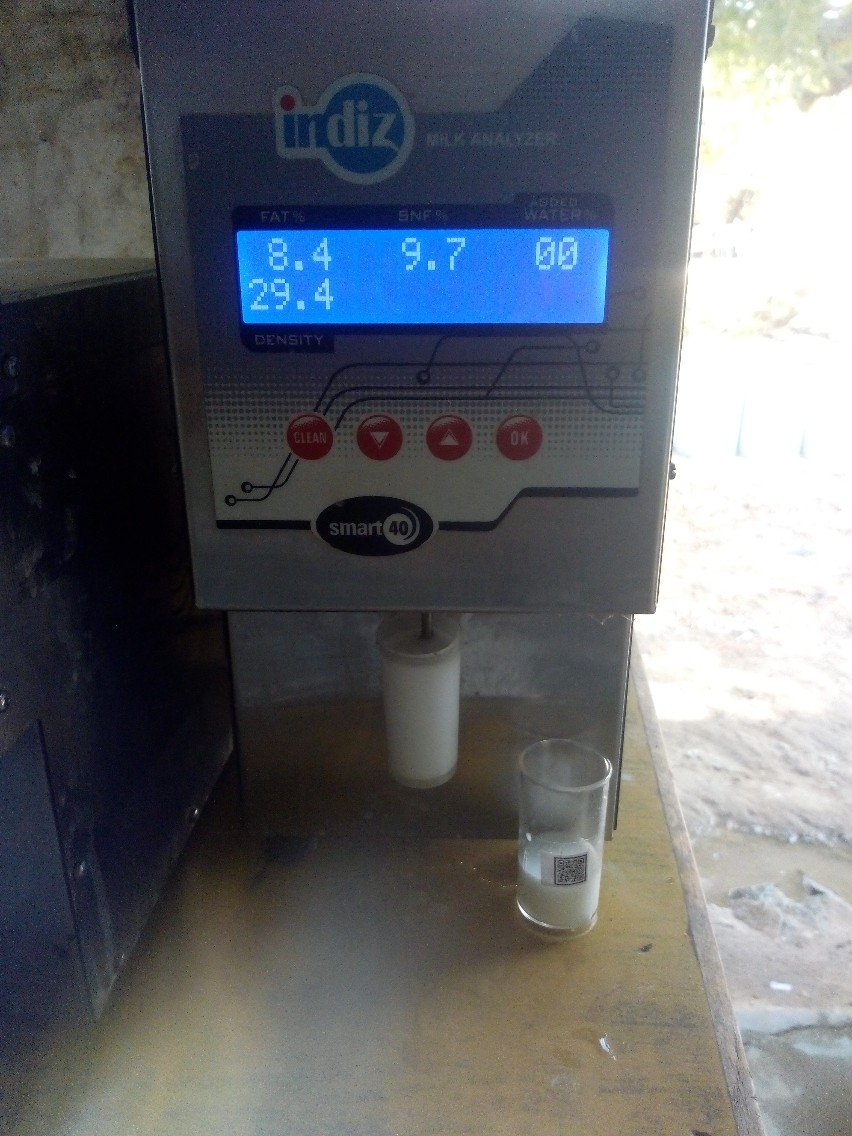lcd: (233, 225, 621, 333)
qr: (550, 850, 593, 894)
